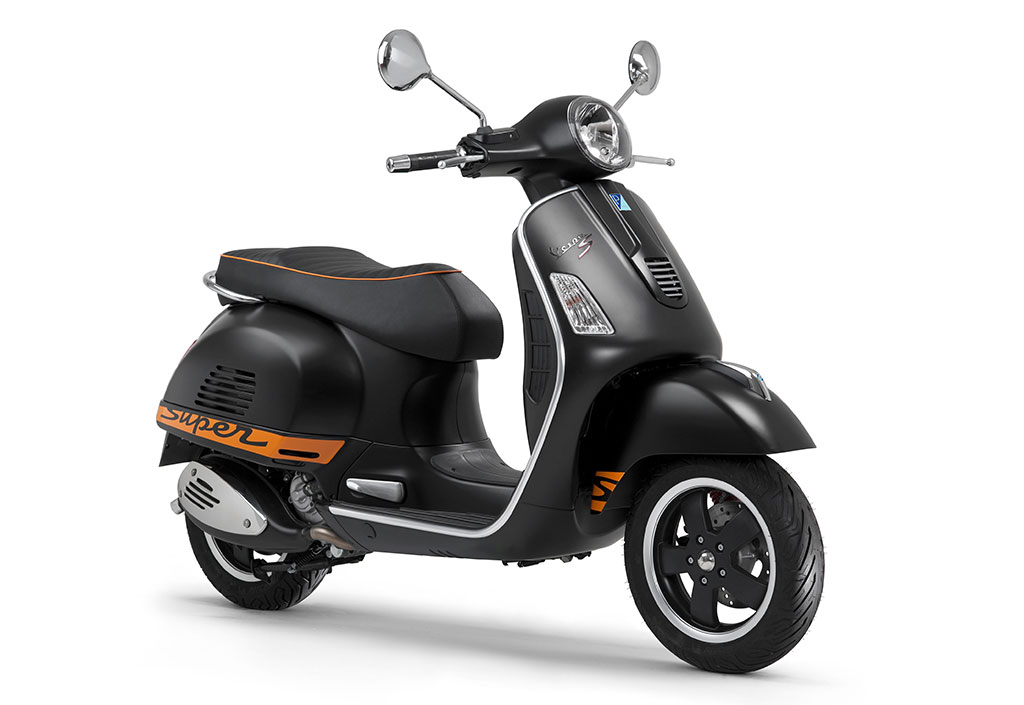motorcycle: (162, 96, 824, 674)
